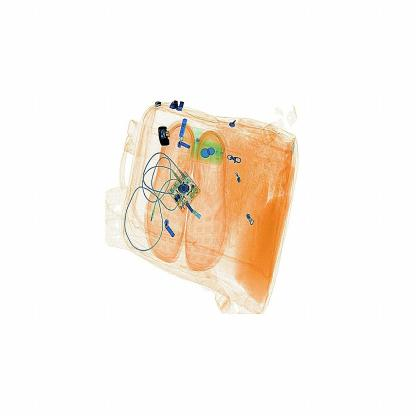wrench: (148, 117, 180, 160)
